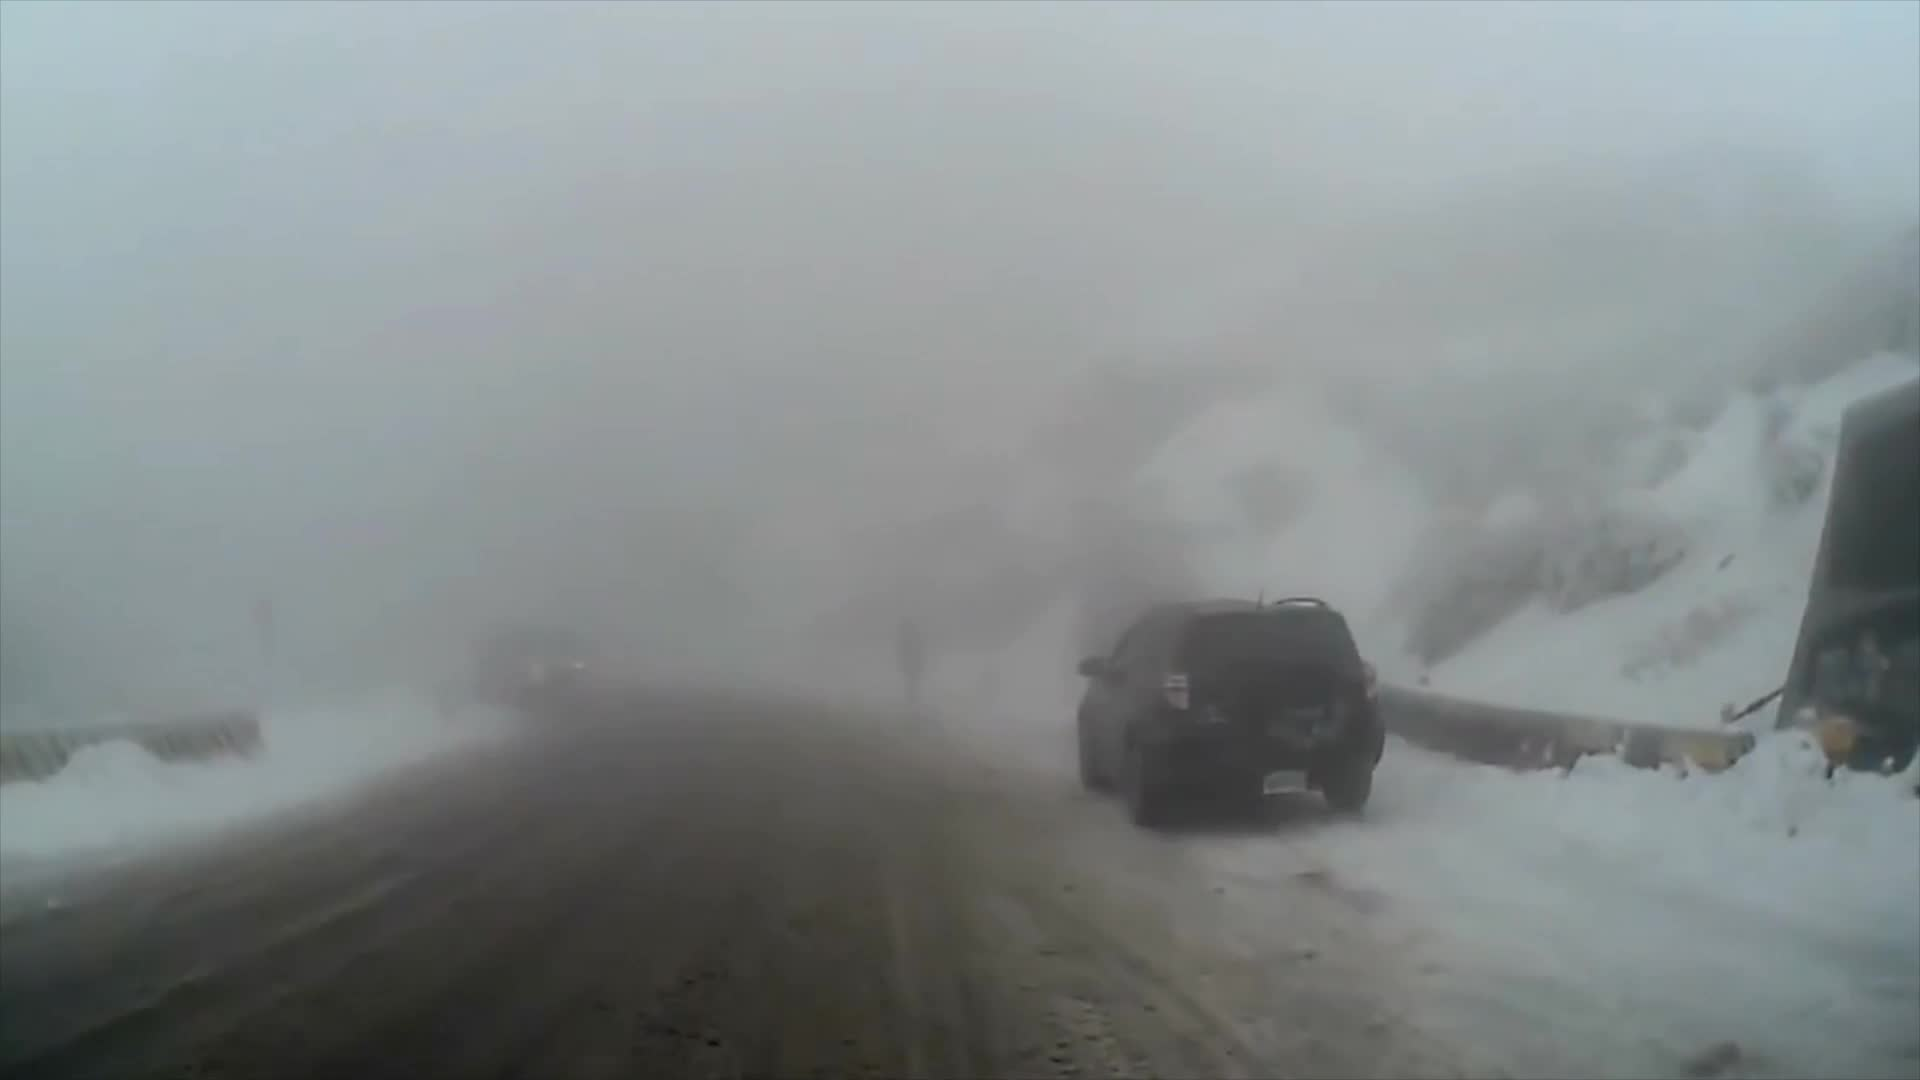vehicle: (1075, 591, 1389, 832)
